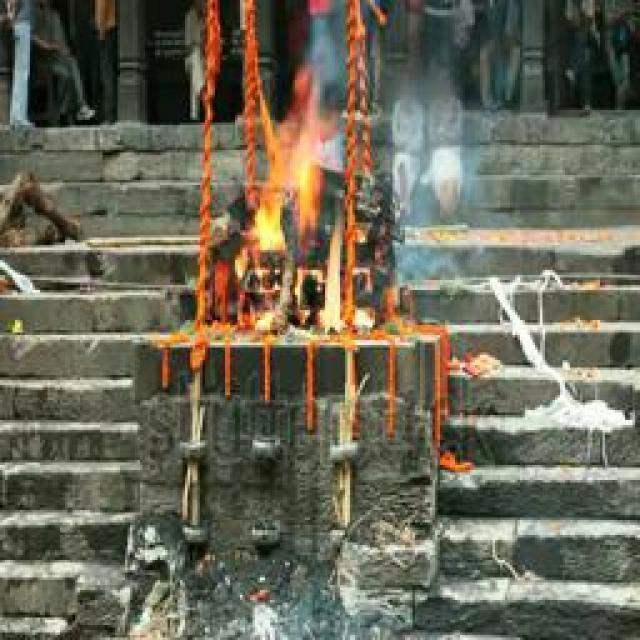Fire: (241, 93, 357, 340)
